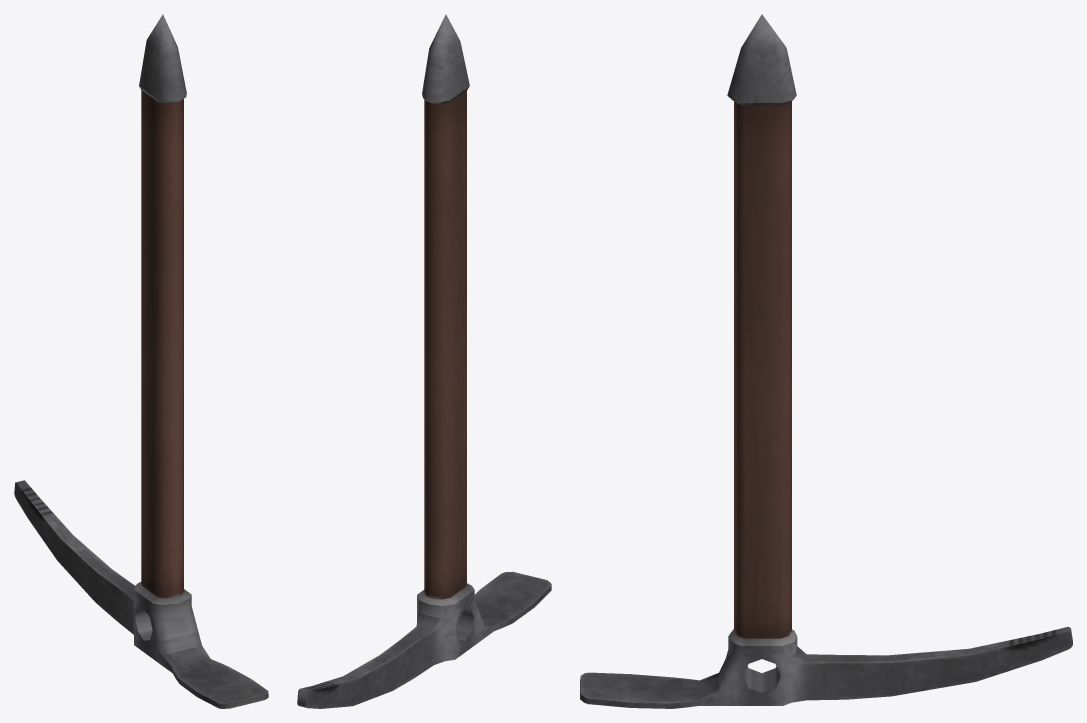
Rendered from IceAxe.fbx.
3 renders of one model, left to right at view 1: azimuth 30°, elevation 25°; view 2: azimuth 150°, elevation 25°; view 3: azimuth 270°, elevation 25°, orthographic. The views are drawn at different scales.
Parts seen in each view (by area): view 1: Cylinder; view 2: Cylinder; view 3: Cylinder.
Boxes of the visible parts, bbox=[...] form: Cylinder: bbox=[14, 14, 268, 708]; Cylinder: bbox=[297, 14, 551, 708]; Cylinder: bbox=[580, 14, 1072, 708].
Size of the model in its own units: 0.0257 by 0.288 by 0.1886.
